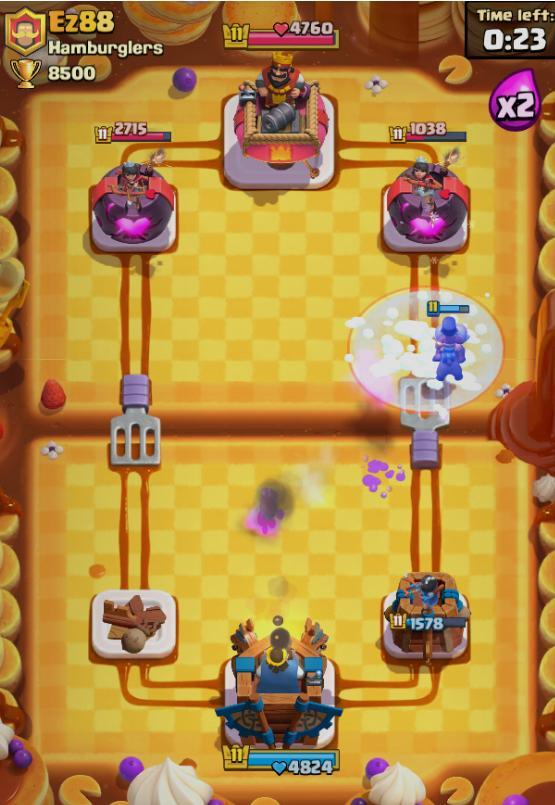EKingTower: (228, 54, 337, 196)
EnemyPrincessTower: (84, 147, 184, 251), (378, 146, 478, 249)
ORamrider: (425, 316, 468, 379)
OwnKingTower: (225, 617, 336, 750)
OwnPrincessTower: (382, 568, 477, 657)
TowerDown: (92, 591, 175, 660)
